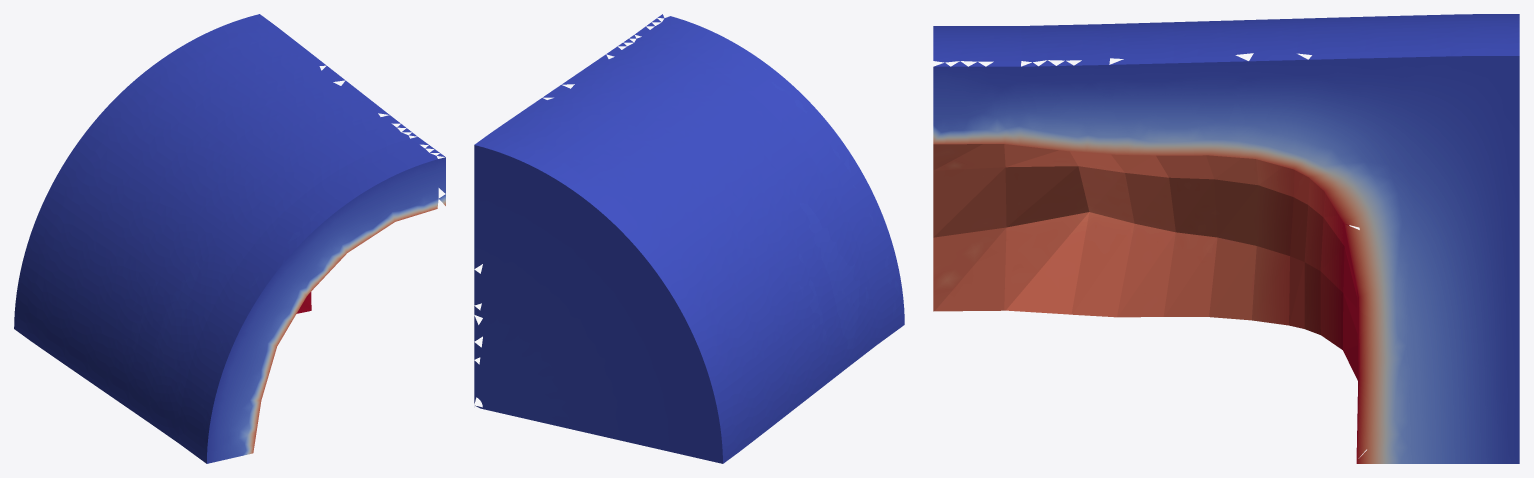
The model's file is quarter.glb.
3 renders of one model, left to right at view 1: azimuth 30°, elevation 25°; view 2: azimuth 150°, elevation 25°; view 3: azimuth 270°, elevation 25°, orthographic. The views are drawn at different scales.
Parts seen in each view (by area): view 1: Renderer Node; view 2: Renderer Node; view 3: Renderer Node.
Boxes of the visible parts, bbox=[...] form: Renderer Node: bbox=[14, 14, 445, 463]; Renderer Node: bbox=[474, 14, 904, 463]; Renderer Node: bbox=[933, 14, 1519, 463].
Bounding box in the file's own units: 6.23 × 6.27 × 8.17.
1 material, 1 textured.
